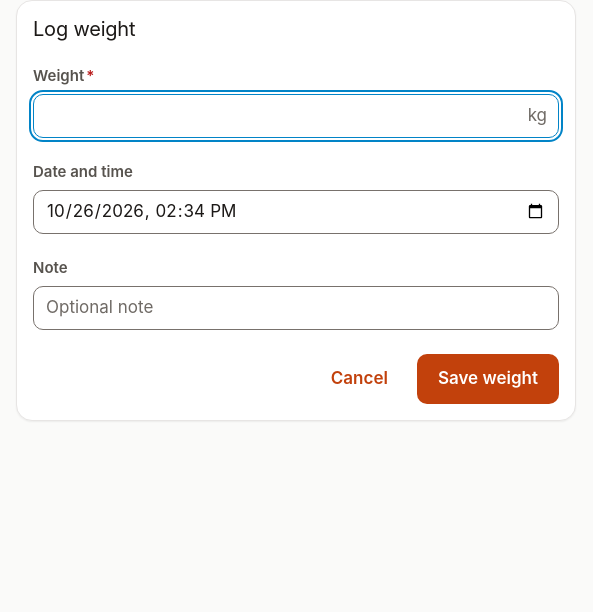
it: holds a value above the bound for confirmation and sends nothing (WT-4)
This screenshot has width=593, height=612.
Type "12" into the field labelled "Weight*". click: (296,116)
box: [33,94,559,138]
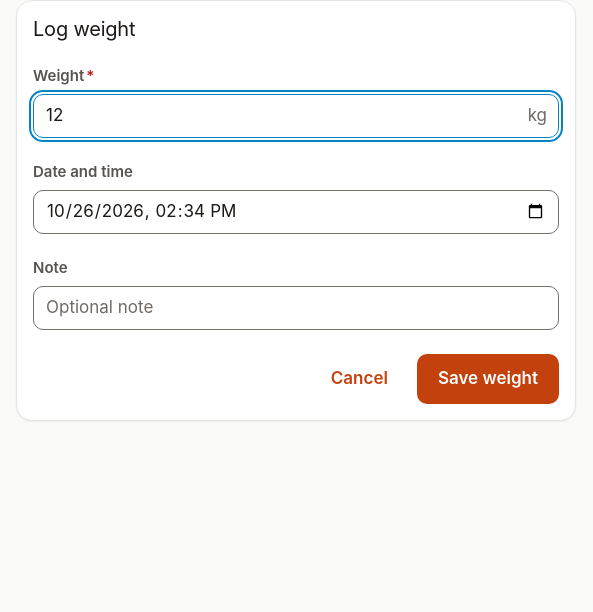
Click the button "Save weight". click: (488,379)
box: [417,354,559,404]
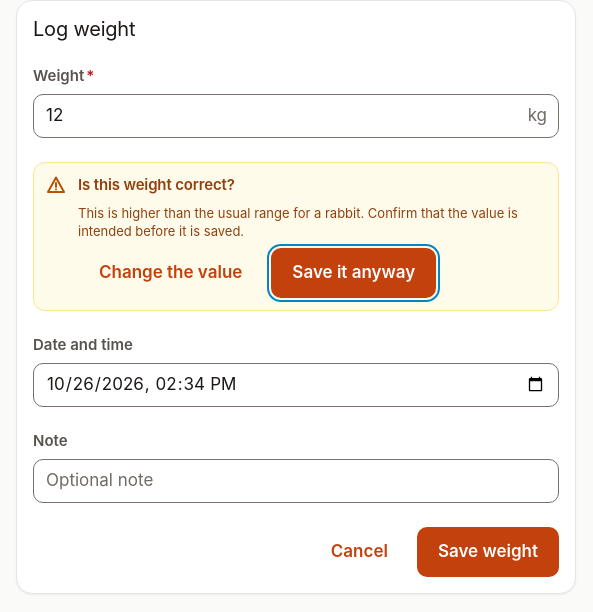
Expected: the heading "Is this weight correct?" is shown, [78,175,235,194]
Expected: the text "This is higher than the usual range for a rabbit. Confirm that the value is intended before it is saved." is shown, [78,205,518,239]
Expected: the button "Save it anyway" is shown, [271,248,436,298]
